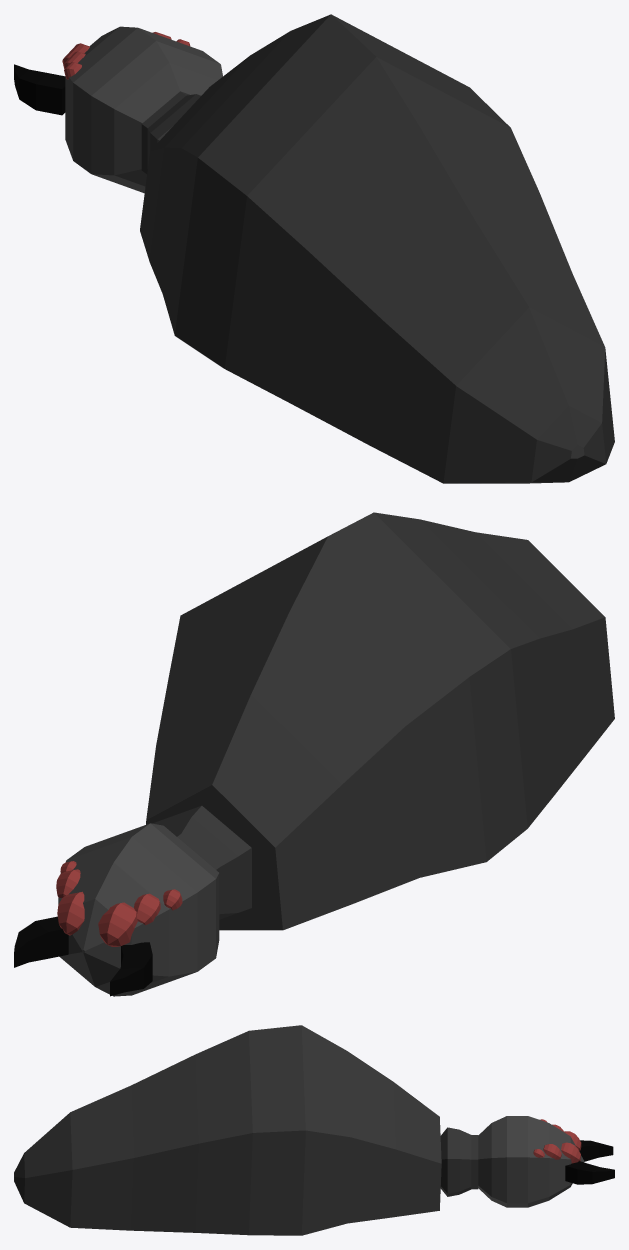
Rendered from Pajonk 1.fbx.
The picture shows the model from 3 angles, top to bottom: view 1: azimuth 30°, elevation 25°; view 2: azimuth 150°, elevation 25°; view 3: azimuth 270°, elevation 25°; orthographic projection. The views are drawn at different scales.
Parts seen in each view (by area): view 1: Circle, Circle.002, Cube.001; view 2: Circle, Circle.002, Cube, Cube.001, Circle.004, Circle.003; view 3: Circle, Circle.002, Cube, Cube.001.
Boxes of the visible parts, x1,y1,x2,y2 form: Circle: (140, 14, 614, 483); Circle.002: (65, 26, 222, 193); Cube.001: (14, 64, 65, 115); Circle: (146, 512, 614, 930); Circle.002: (58, 823, 219, 996); Cube: (14, 916, 68, 967); Cube.001: (110, 942, 152, 996); Circle.004: (98, 902, 137, 946); Circle.003: (57, 891, 84, 935); Circle: (14, 1025, 478, 1235); Circle.002: (478, 1116, 584, 1207); Cube: (565, 1161, 614, 1184); Cube.001: (579, 1140, 613, 1161).
Size of the model in its own units: 465 by 461 by 1321.
